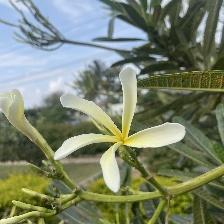champaka: (50, 66, 190, 197)
